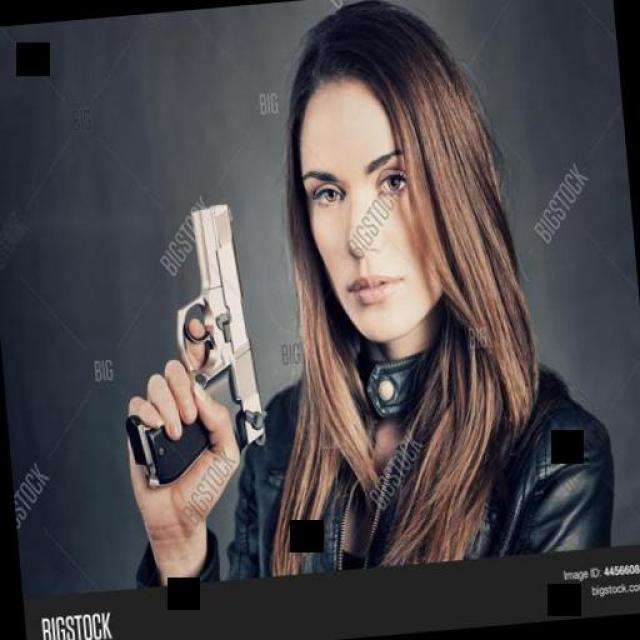gun: (110, 199, 274, 496)
